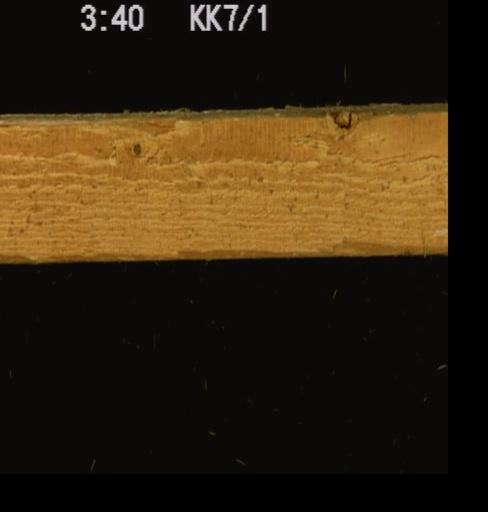dry_knot: (124, 135, 146, 163)
edge_knot: (318, 103, 368, 129)
wave: (179, 243, 447, 257)
